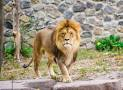lion: (21, 18, 83, 82)
